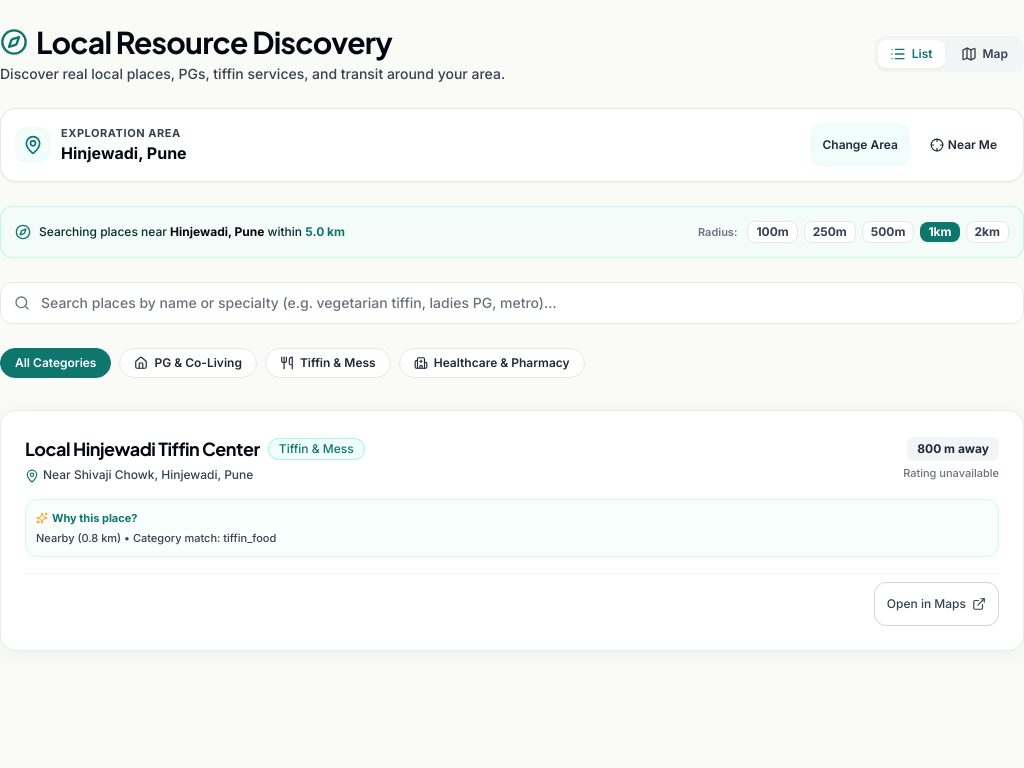
Test: Phase 10: ResourcesPage Component › handles category selection and text search query
Click Tiffin & Mess category chip
Click the button "Tiffin & Mess".
click(328, 363)  # box x1=265 y1=348 x2=391 y2=378
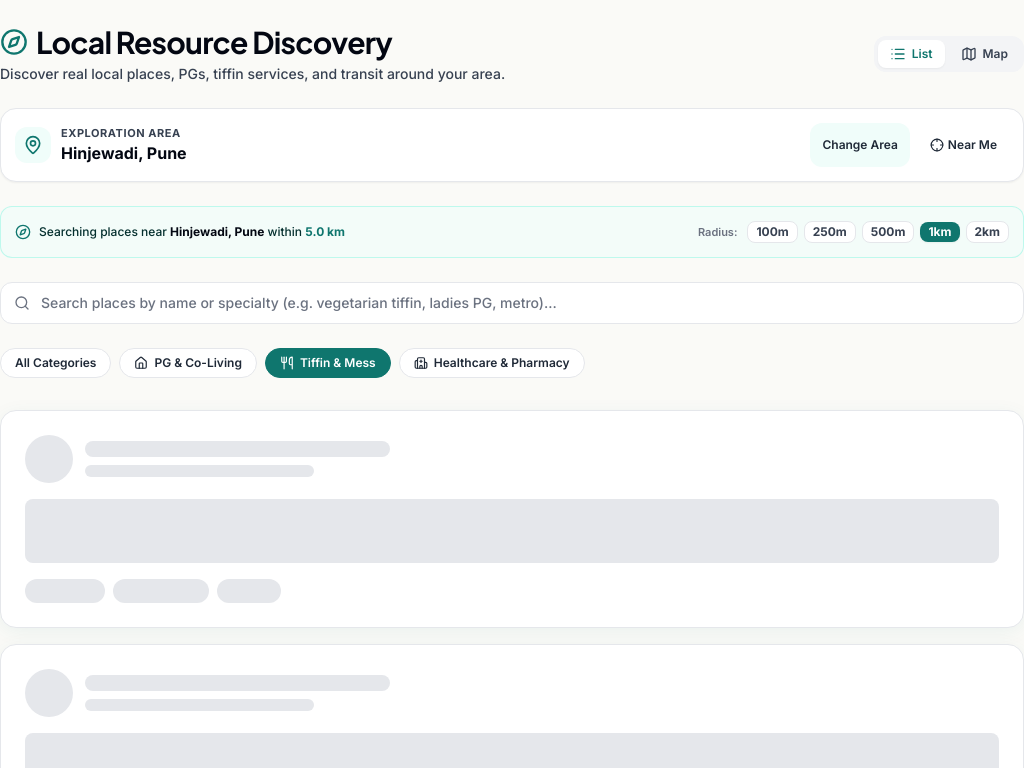
Enter custom query
Replace the text in the field with placeholder "Search places by name or specialty" with "home mess" at (512, 303), box x1=0 y1=282 x2=1023 y2=324
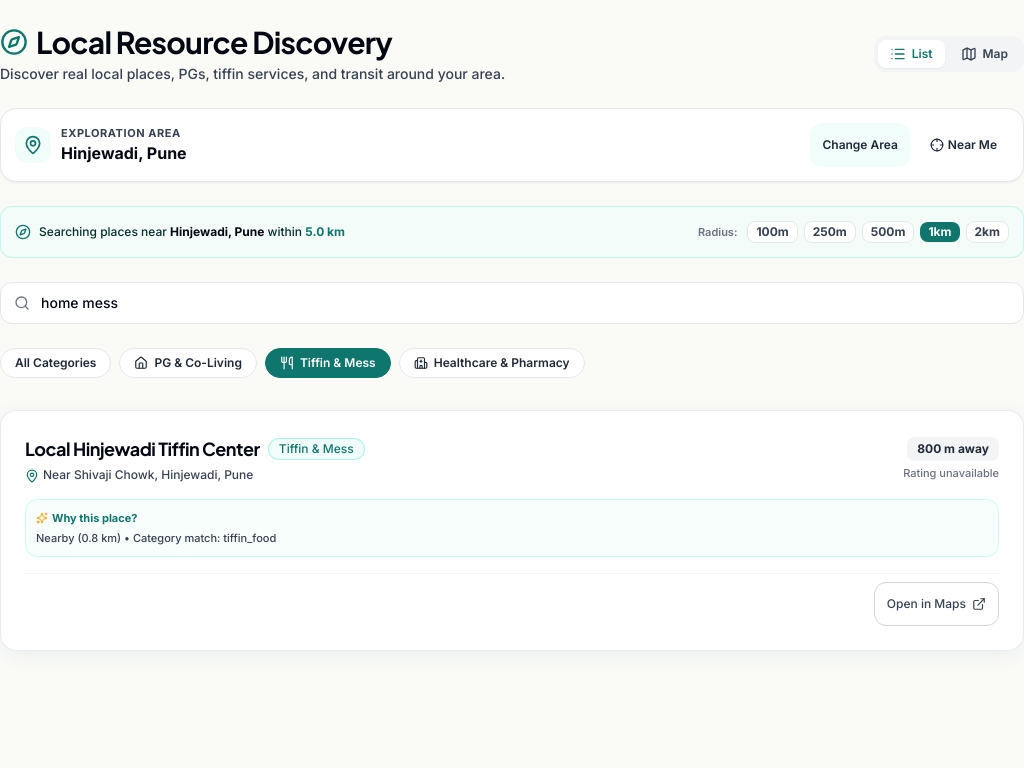
Expected: the heading "Local Hinjewadi Tiffin Center" is shown, x1=25 y1=435 x2=260 y2=463
